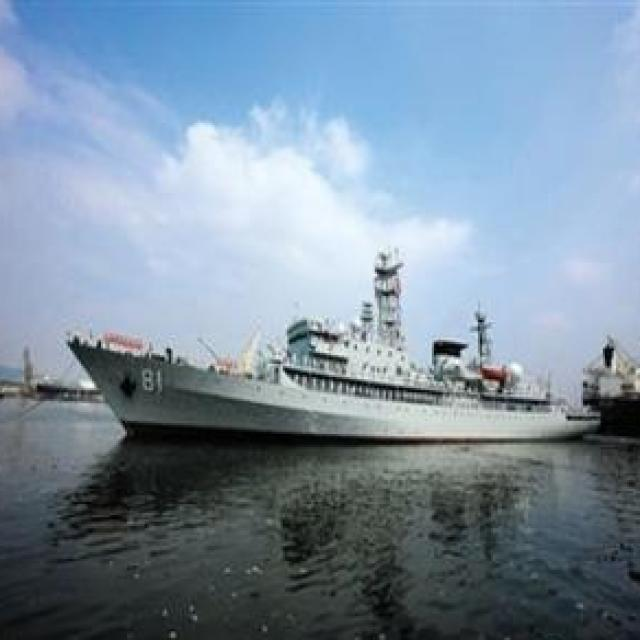navalvessels: (62, 236, 601, 446)
